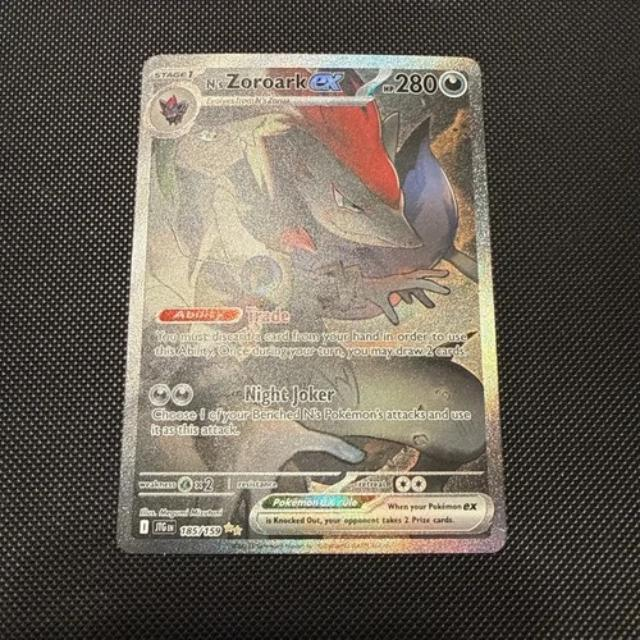Card: (115, 48, 511, 557)
Name: (202, 69, 348, 92)
